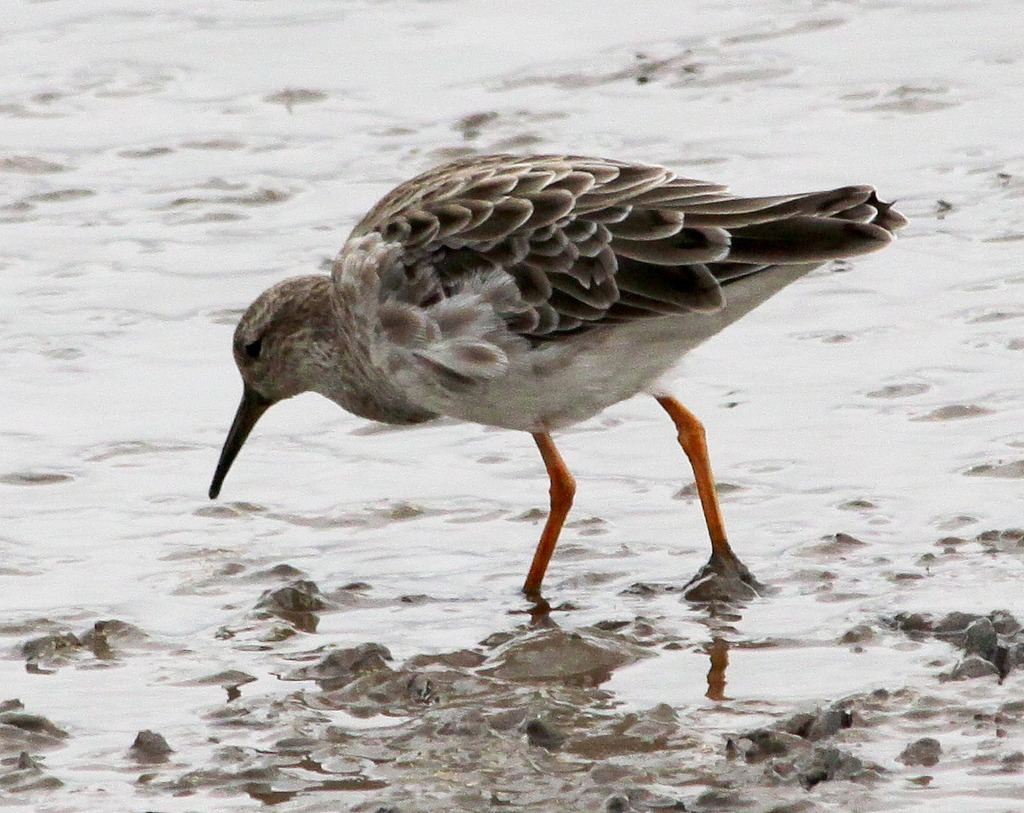Bird: (207, 153, 909, 600)
